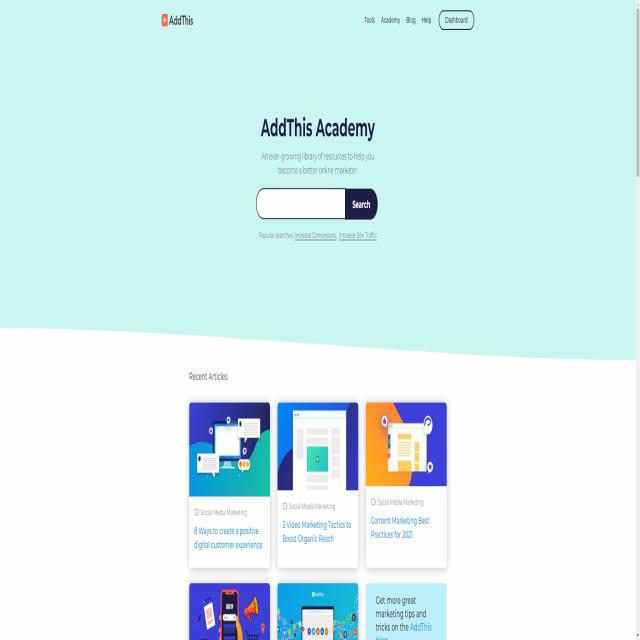menu-bar: (360, 7, 476, 33)
search: (254, 184, 380, 222)
